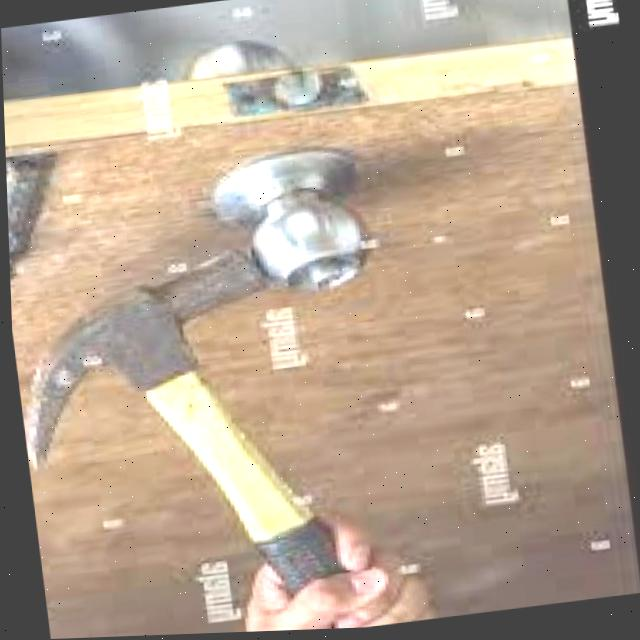hammer: (7, 221, 454, 640)
